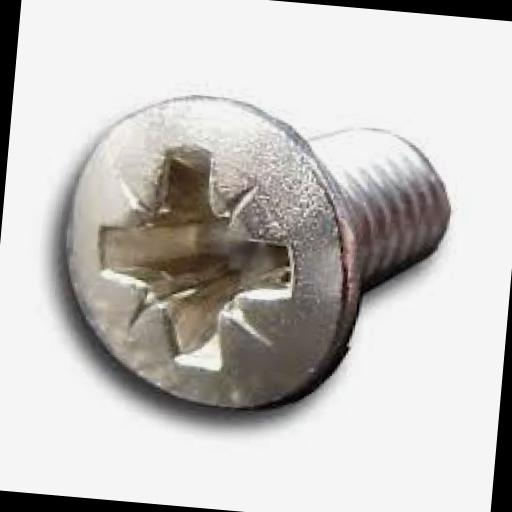Phillips: (55, 79, 370, 430)
